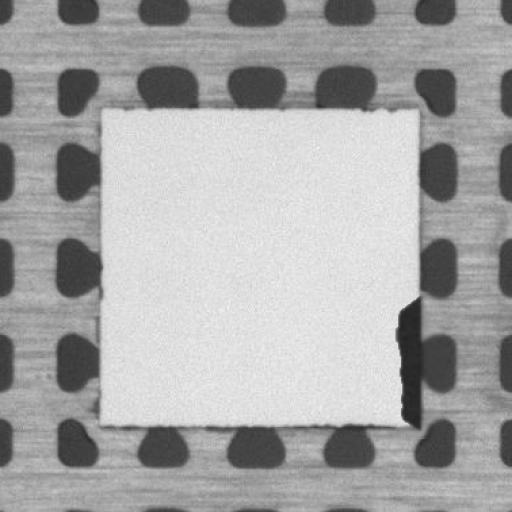DIE_BROKEN: (388, 296, 422, 432)
